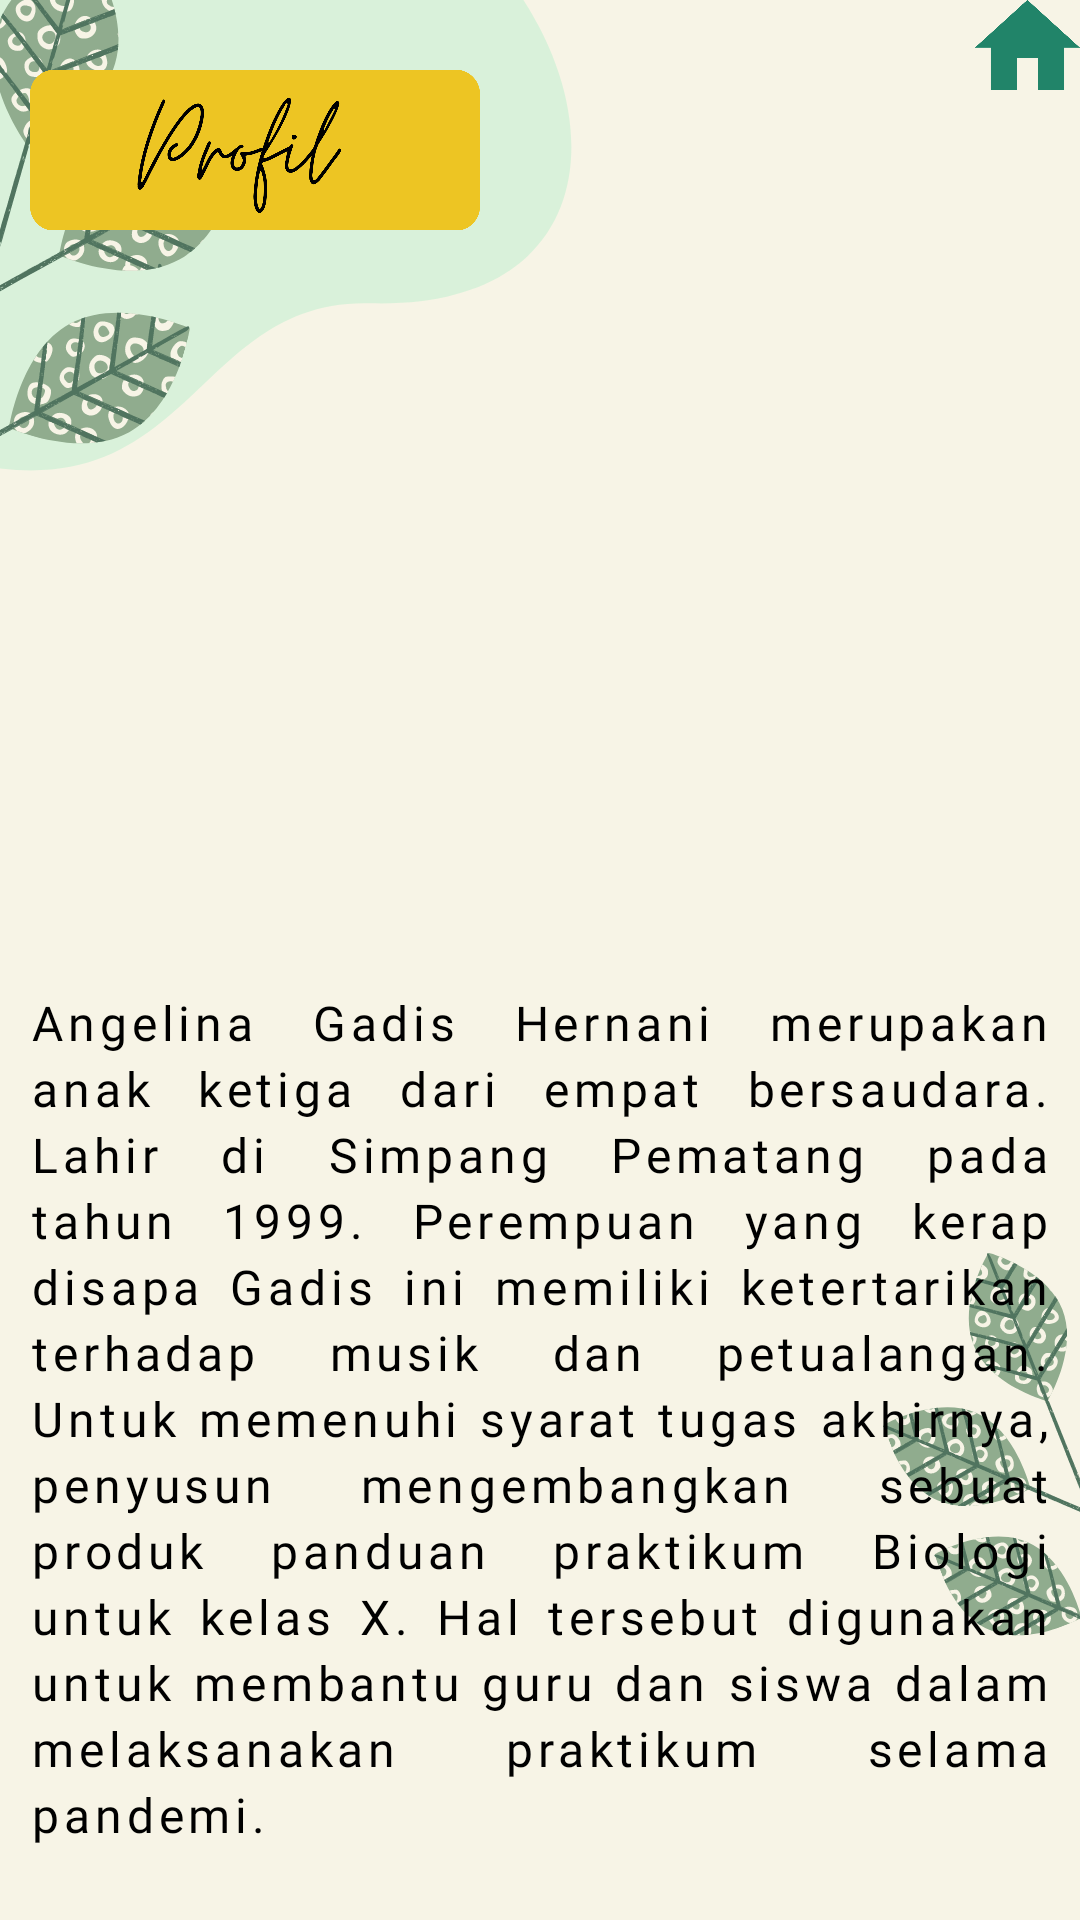

Icons on this 1080*1920 Android screen, each with its box as (x1, y1, x2, y2):
home: (975, 0, 1080, 90)
